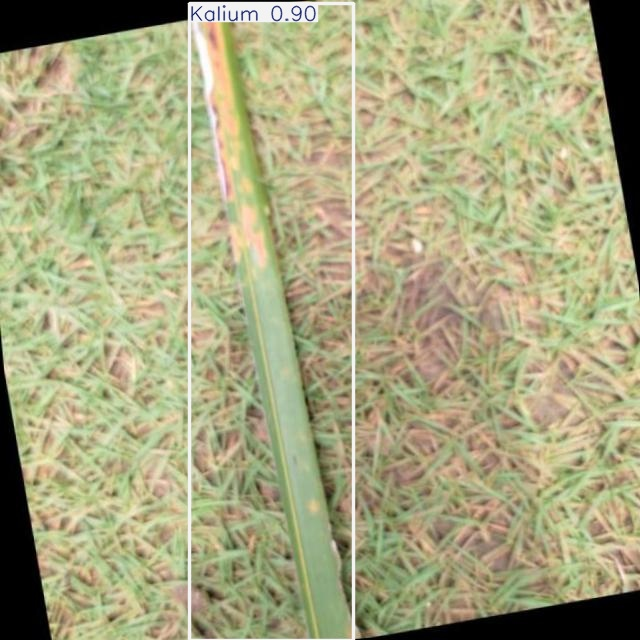Kalium: (189, 3, 354, 640)
